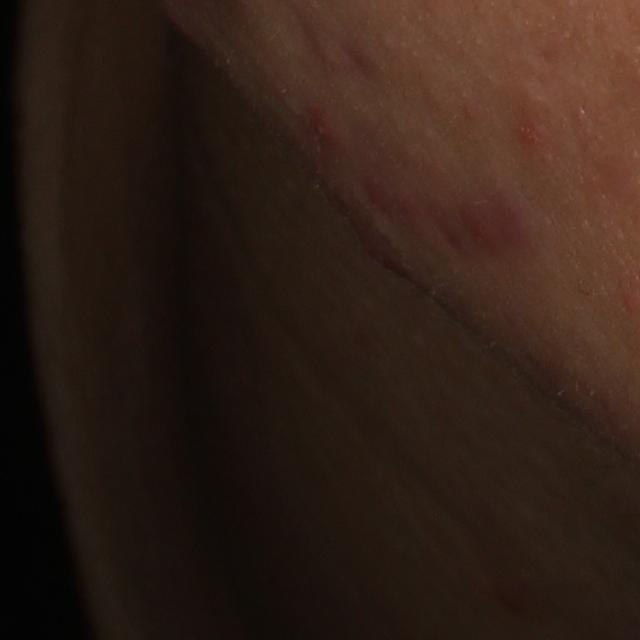papule: (460, 198, 502, 253), (519, 119, 545, 146)
